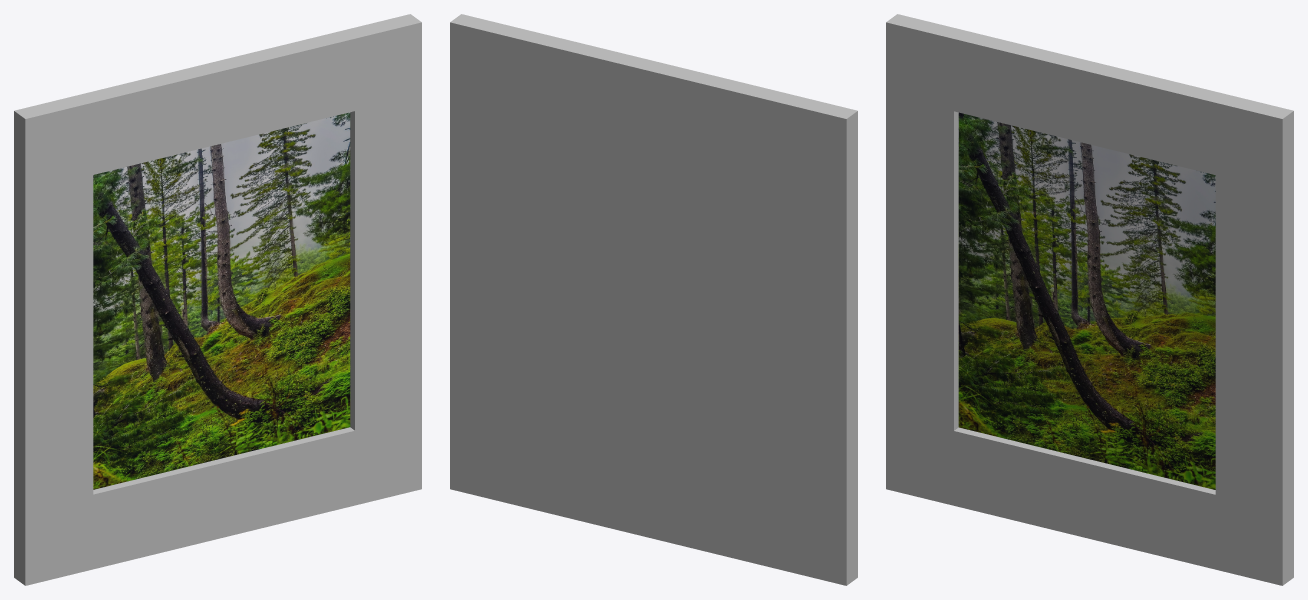
The model's file is Frame_04.FBX.
The picture shows the model from 3 angles, left to right: view 1: azimuth 30°, elevation 25°; view 2: azimuth 150°, elevation 25°; view 3: azimuth 330°, elevation 25°; orthographic projection.
Parts seen in each view (by area): view 1: Frame_04; view 2: Frame_04; view 3: Frame_04.
Part boxes in pixels (left/top/right/bottom): Frame_04: left=14, top=14, right=421, bottom=585; Frame_04: left=450, top=14, right=857, bottom=585; Frame_04: left=886, top=14, right=1293, bottom=585.
Size of the model in its own units: 720 by 36 by 810.
